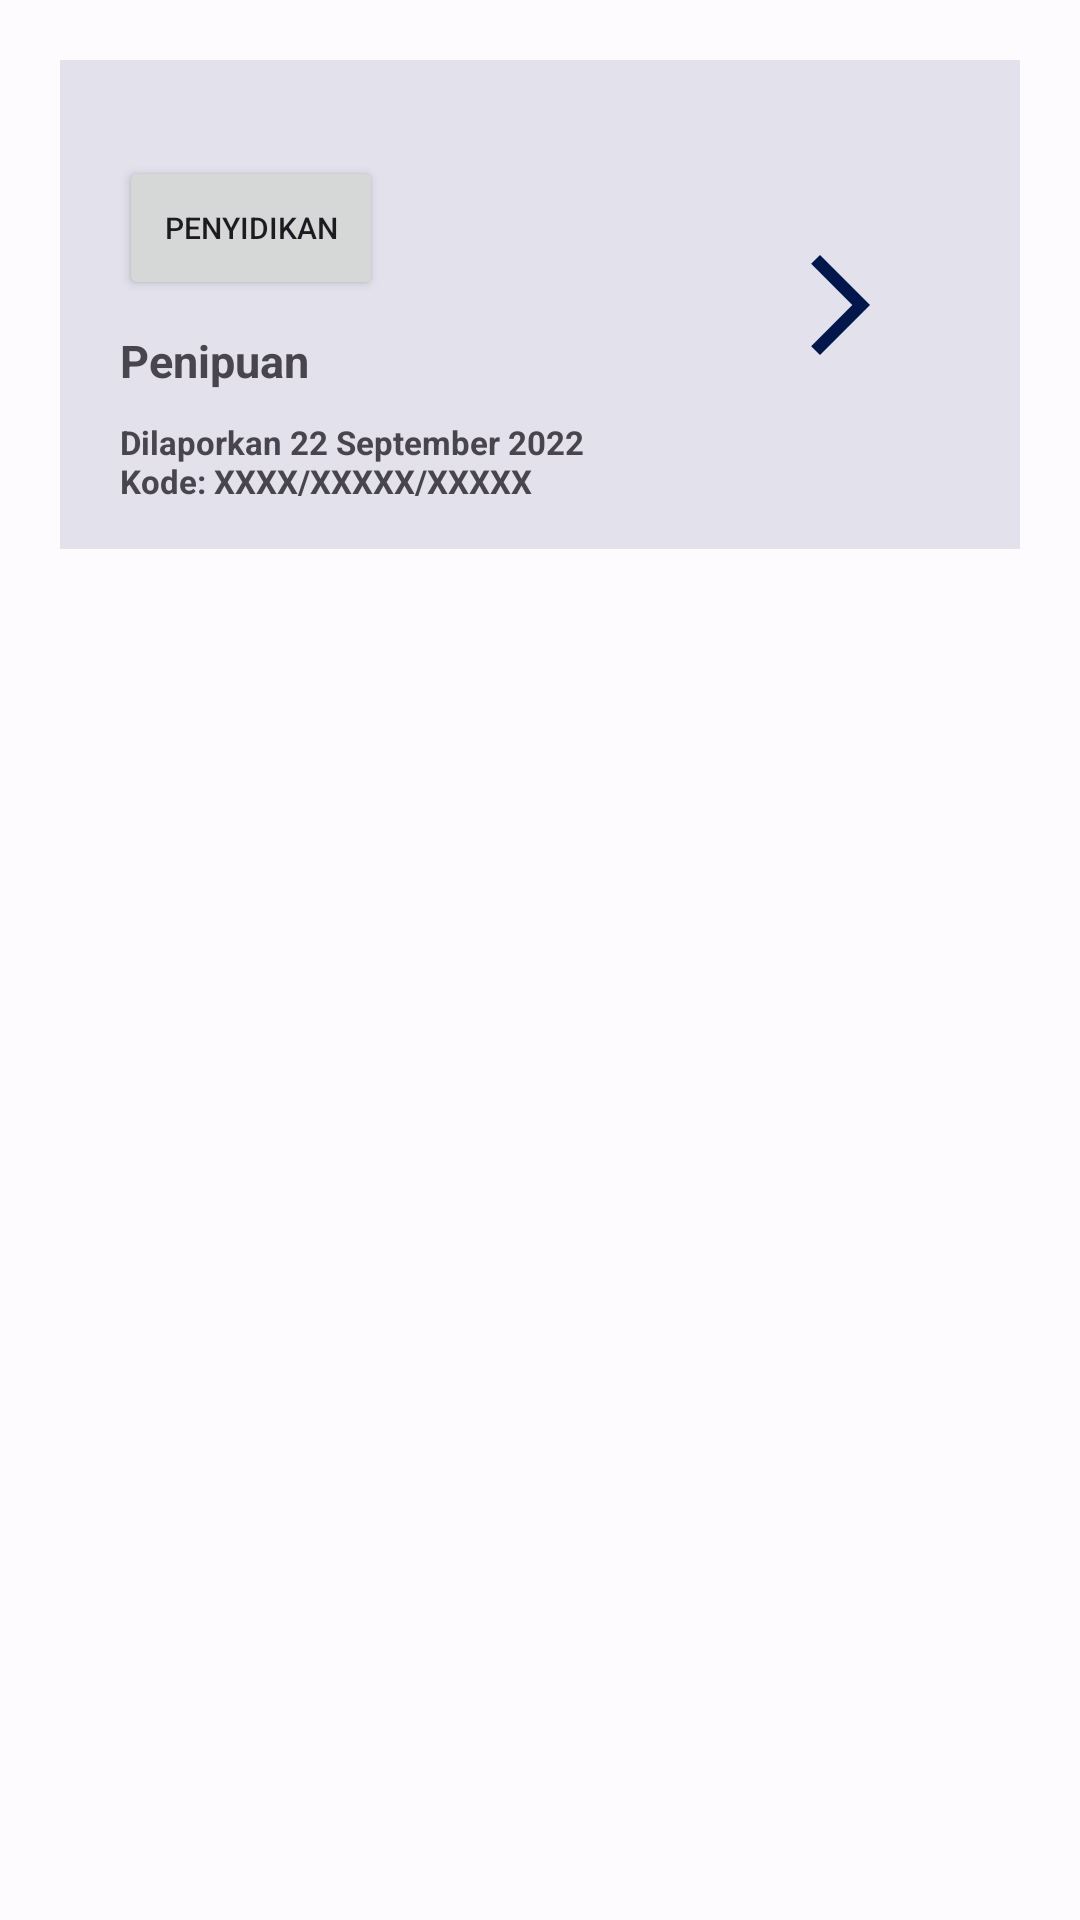

Icon bounding boxes for this 1080×1920 phone screenshot, format (x1, y1, x2, y2):
arrow forward: (811, 255, 870, 355)
